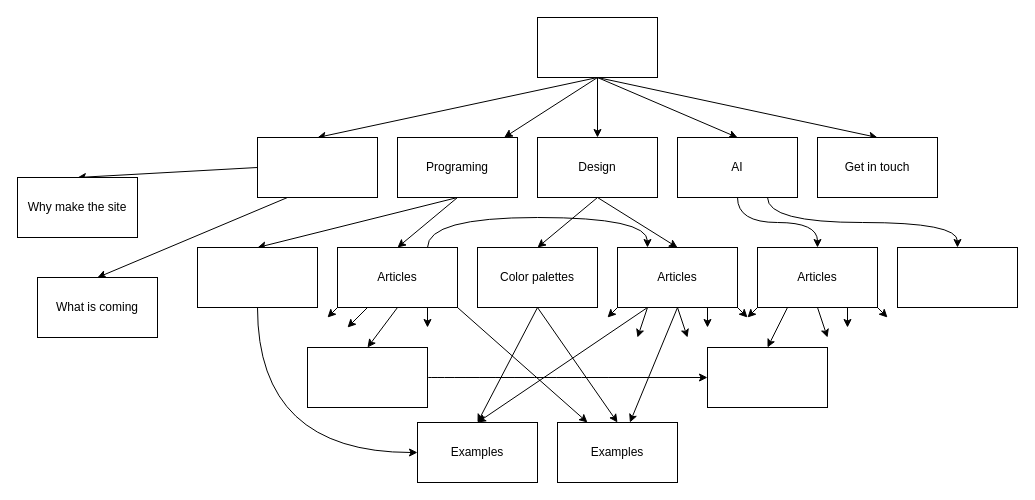
This 1035x500 diagram has some shape labels left out. Here are the shapes that lost their labels. From the top down, the centre of each, then its label:
[597,47]: Home
[317,167]: About
[257,277]: Live Coding Playground
[957,277]: User AI generated Articles
[367,377]: Coding with Ai
[767,377]: "AI spreading to all generations"
